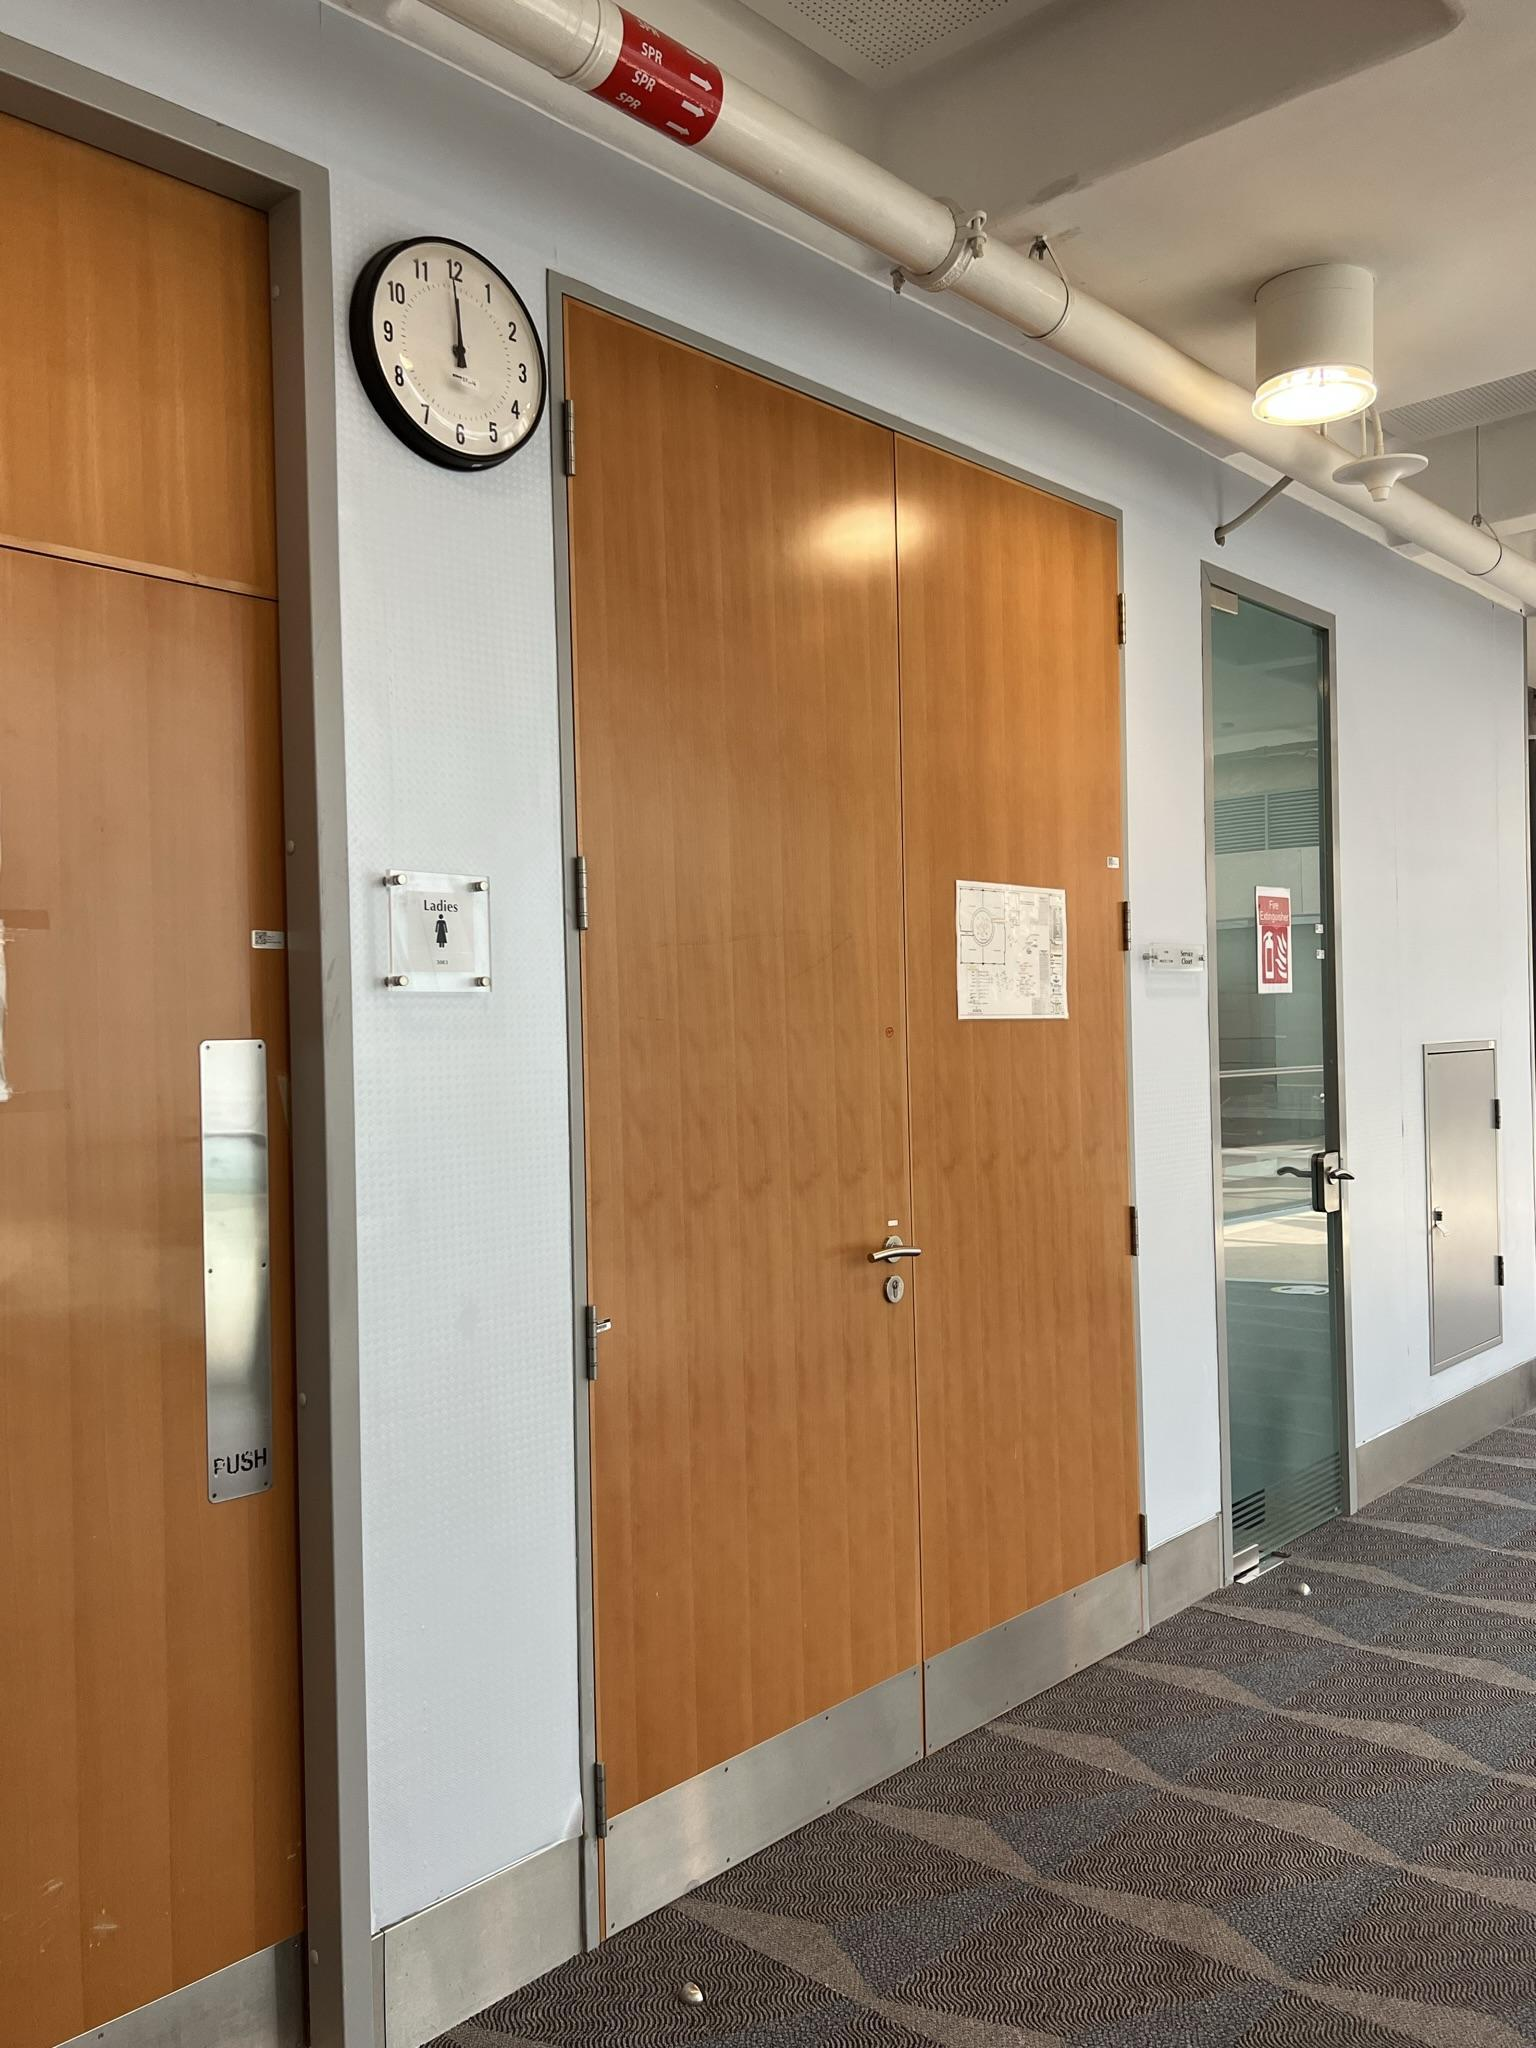door: (2, 52, 329, 2048), (545, 256, 925, 1892), (891, 421, 1162, 1722), (1192, 561, 1362, 1579)
handle: (842, 1221, 929, 1322), (1315, 1145, 1355, 1216)
